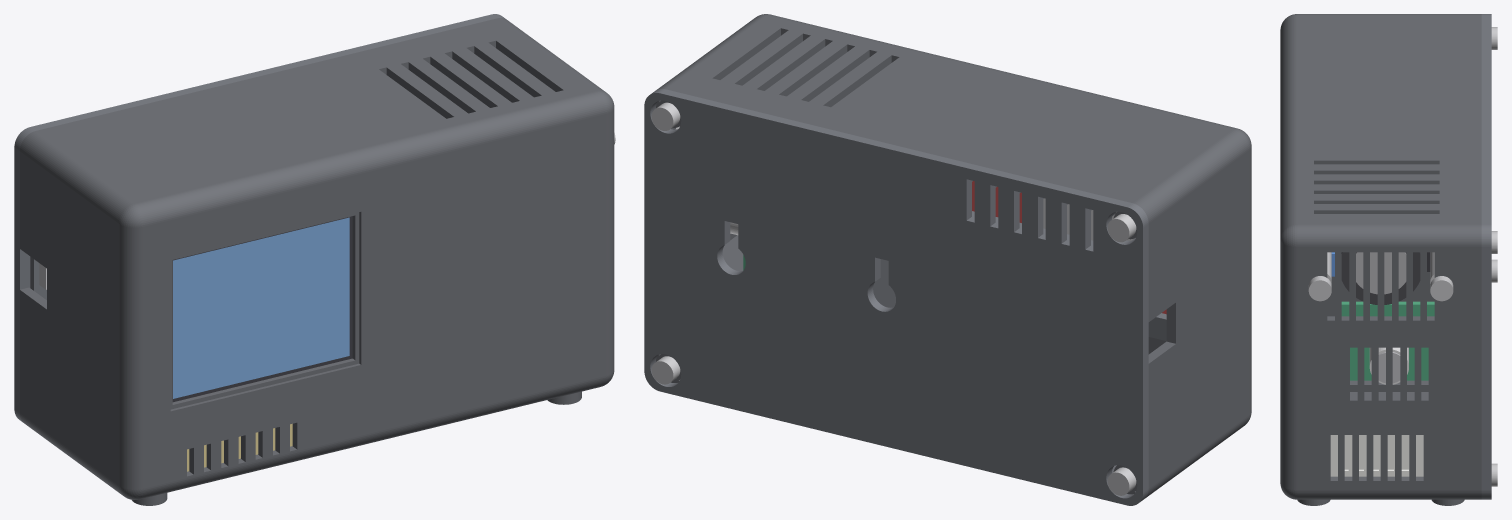
The model's file is aqm.glb.
3 renders of one model, left to right at view 1: azimuth 30°, elevation 25°; view 2: azimuth 150°, elevation 25°; view 3: azimuth 270°, elevation 25°, orthographic. The views are drawn at different scales.
Parts seen in each view (by area): view 1: enclosure_body_mesh, tft_active_area, rear_cover_mesh, tft_glass; view 2: rear_cover_mesh, enclosure_body_mesh; view 3: enclosure_body_mesh, rear_cover_mesh, dht22_body, mp503_pcb, mq131, mq131_sensor_gauze, mq131_sensor_cap, mp503_sensor_mesh, mp503_sensor.
Boxes of the visible parts, bbox=[...] form: enclosure_body_mesh: bbox=[20, 18, 614, 505]; tft_active_area: bbox=[173, 217, 349, 398]; rear_cover_mesh: bbox=[14, 14, 505, 422]; tft_glass: bbox=[172, 216, 352, 402]; rear_cover_mesh: bbox=[644, 89, 1148, 505]; enclosure_body_mesh: bbox=[656, 14, 1251, 498]; enclosure_body_mesh: bbox=[1280, 14, 1481, 505]; rear_cover_mesh: bbox=[1481, 14, 1491, 499]; dht22_body: bbox=[1330, 435, 1423, 476]; mp503_pcb: bbox=[1341, 301, 1434, 380]; mq131: bbox=[1308, 252, 1453, 301]; mq131_sensor_gauze: bbox=[1356, 252, 1406, 294]; mq131_sensor_cap: bbox=[1341, 252, 1420, 304]; mp503_sensor_mesh: bbox=[1378, 352, 1400, 383]; mp503_sensor: bbox=[1369, 347, 1408, 384].
Bounding box in the file's own units: 0.1285 × 0.075 × 0.0518.
